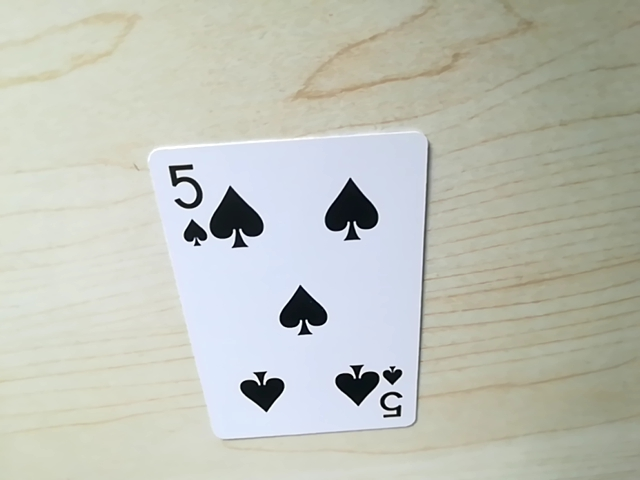ht 5: (159, 161, 217, 255), (371, 364, 410, 426)
